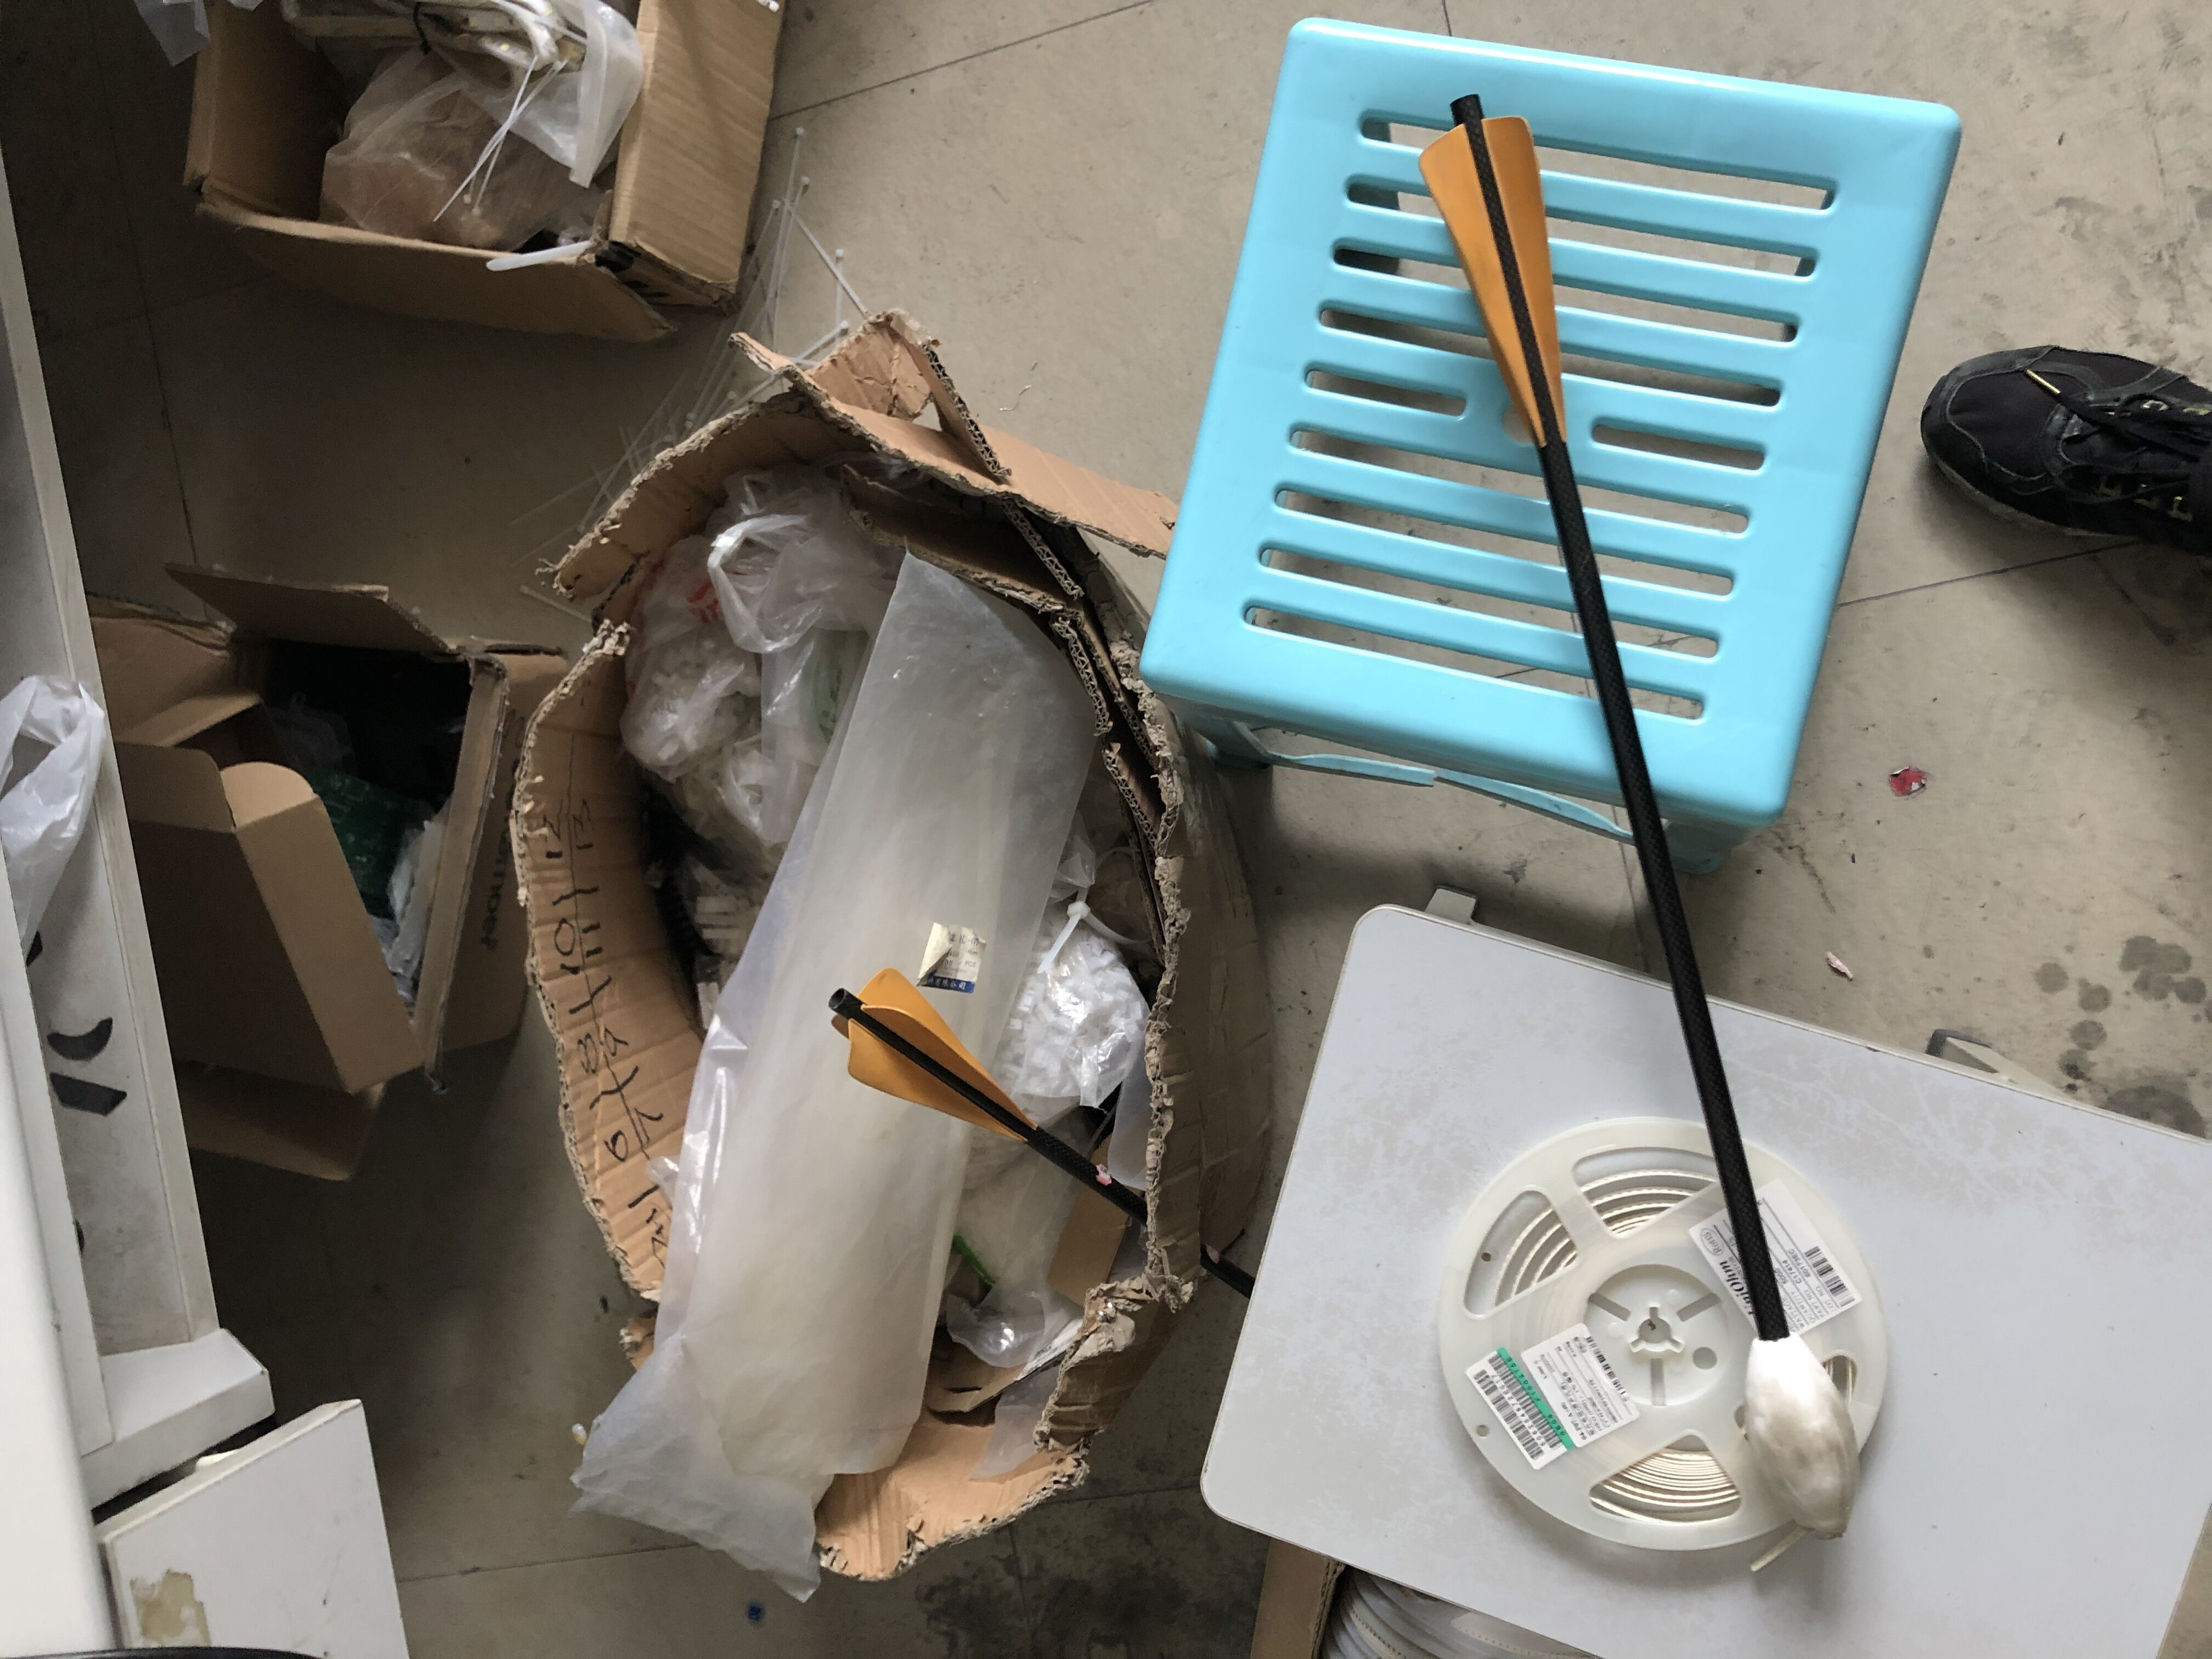arrow: (1420, 89, 1858, 1535), (829, 969, 1151, 1218)
arrowFront: (1749, 1333, 1857, 1537)
